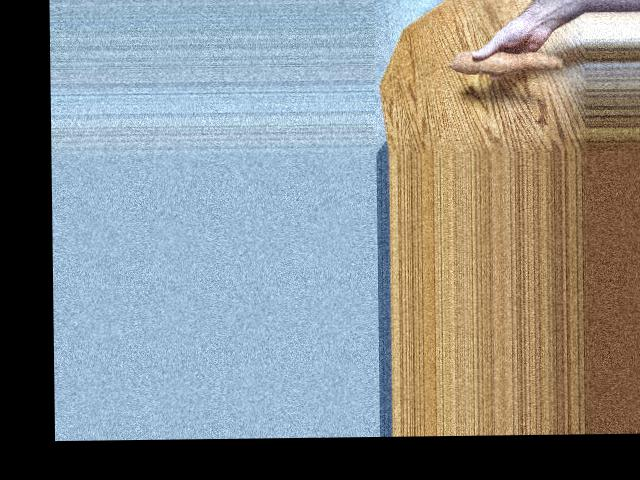sweet_potato: (455, 45, 563, 78)
